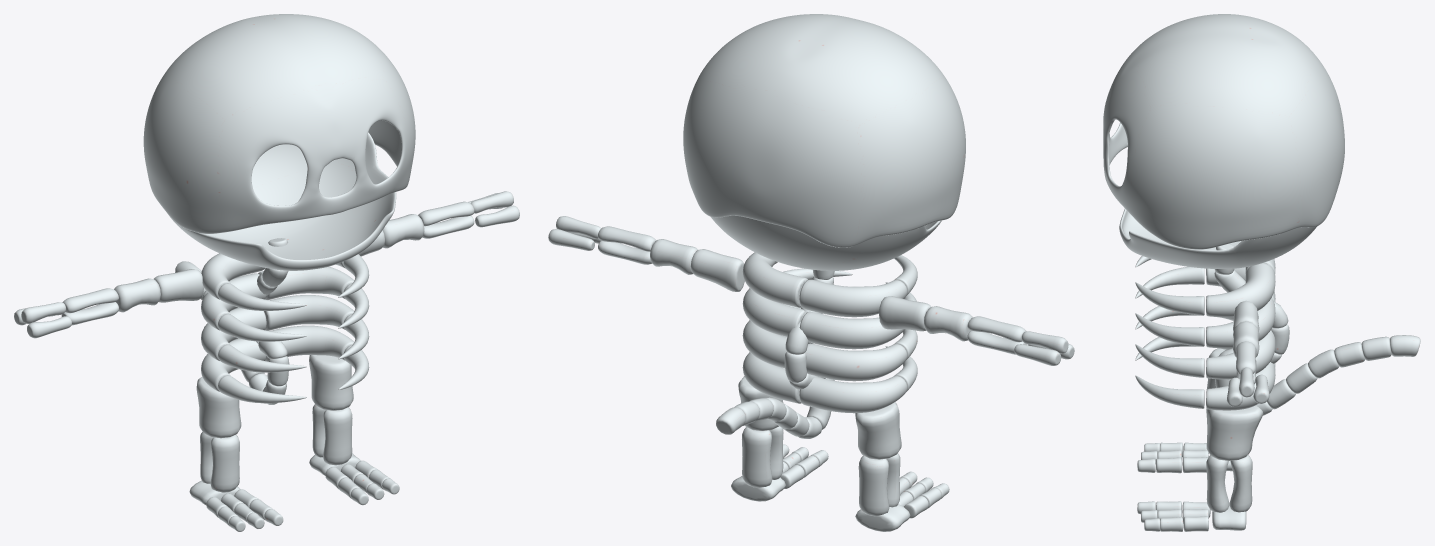
The model's file is jose_scuffedOshawottskeleton.fbx.
3 views of the same model, side by side, from view 1: azimuth 30°, elevation 25°; view 2: azimuth 150°, elevation 25°; view 3: azimuth 270°, elevation 25° (orthographic). The views are drawn at different scales.
Parts seen in each view (by area): view 1: oshawottscuffed; view 2: oshawottscuffed; view 3: oshawottscuffed.
Boxes of the visible parts, x1=… form: oshawottscuffed: x1=14, y1=14, x2=519, y2=531; oshawottscuffed: x1=548, y1=14, x2=1074, y2=531; oshawottscuffed: x1=1103, y1=14, x2=1420, y2=531.
Size of the model in its own units: 1.36 by 0.7577 by 1.22.
1 material, 1 textured.
